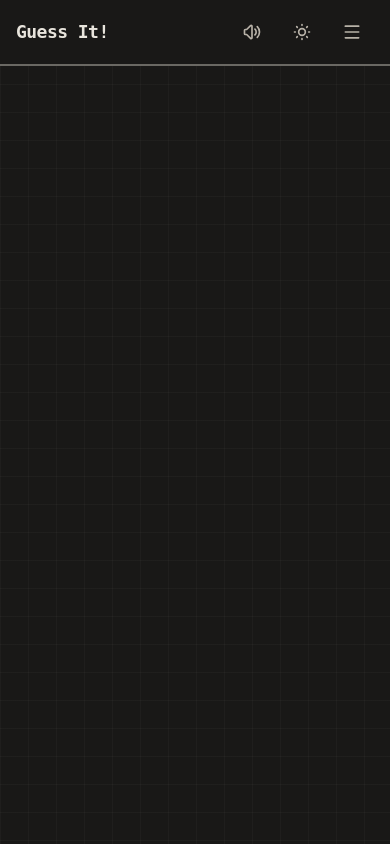
Test: Header mobile navigation › keeps primary navigation behind an accessible mobile menu
Click the button named "Open menu".
click(352, 32)  # box [330,10,374,54]
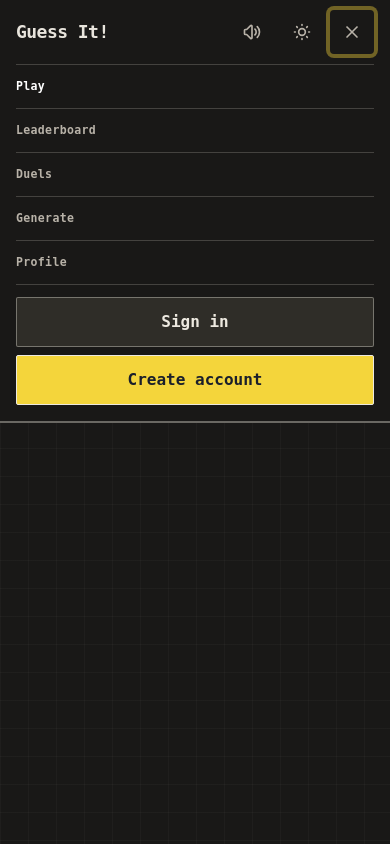
Result: the button named "Close menu" is expanded at [330,10,374,54]
Result: the element named "Mobile navigation" is shown at [0,64,389,421]
Result: the element named "Mobile navigation" shows "Leaderboard" at [16,109,374,153]
